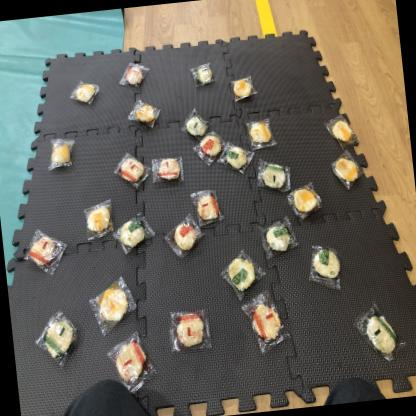green_setoshio: (34, 308, 84, 367), (358, 302, 406, 358), (302, 232, 346, 292), (220, 250, 263, 297), (113, 210, 154, 256), (254, 154, 293, 194), (259, 215, 299, 254), (223, 138, 254, 176), (181, 107, 214, 136), (191, 58, 216, 90)
red_setoshio: (107, 334, 158, 392), (242, 293, 288, 352), (167, 304, 212, 355), (22, 225, 66, 276), (162, 210, 206, 258), (191, 184, 225, 228), (113, 150, 150, 190), (149, 149, 187, 187), (119, 57, 150, 90), (197, 133, 226, 164)
yellow_setoshio: (87, 275, 138, 332), (326, 145, 366, 192), (124, 93, 162, 132), (286, 180, 322, 221), (80, 198, 115, 240), (244, 114, 278, 154), (65, 75, 102, 110), (324, 110, 358, 148), (45, 134, 78, 172), (228, 71, 258, 104)
